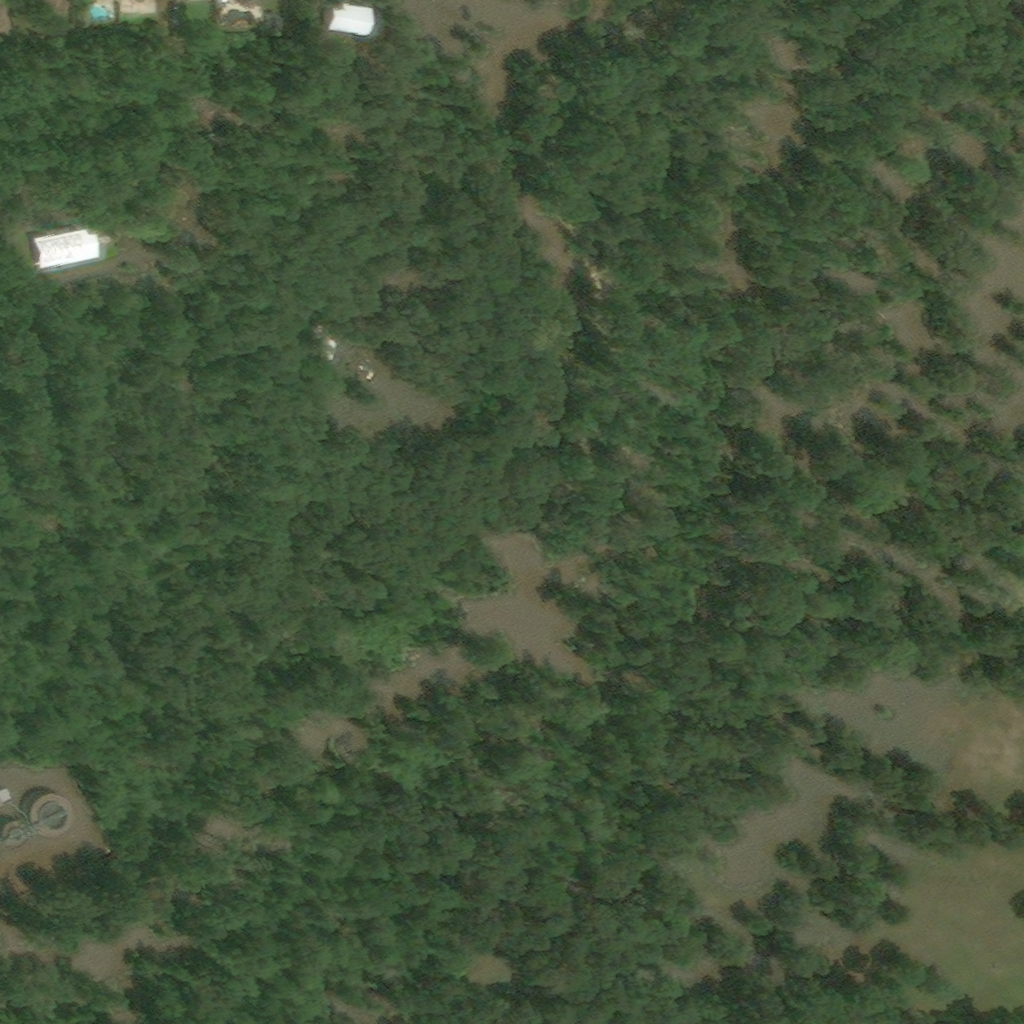major_damage: (0, 789, 73, 843), (29, 223, 98, 270), (306, 318, 343, 370), (322, 0, 368, 34), (34, 0, 72, 17), (0, 3, 10, 35), (0, 787, 10, 806), (236, 0, 260, 2)
unclassified: (309, 382, 323, 399)
